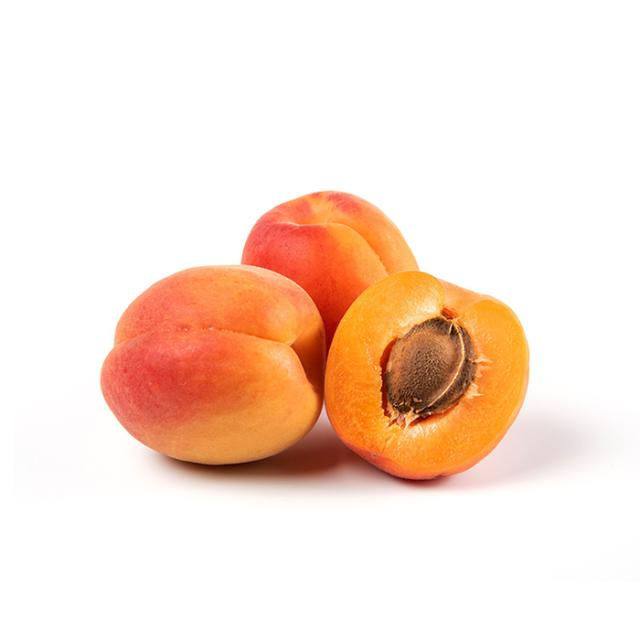Cekirdek: (383, 315, 477, 426)
